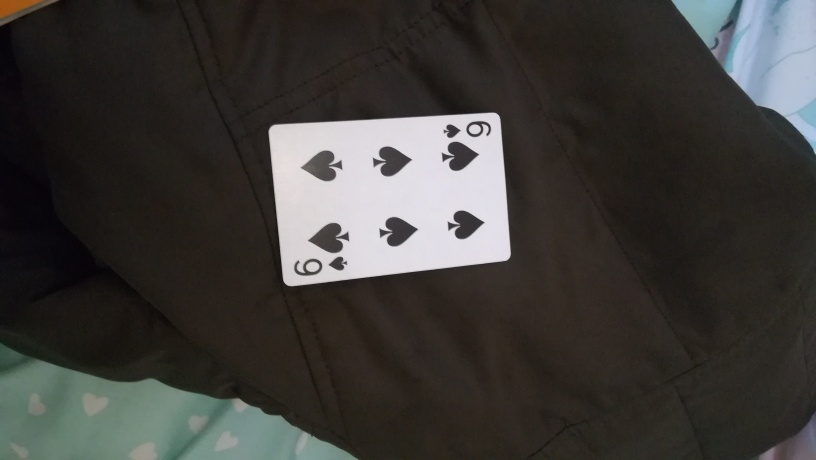ht 6: (261, 110, 523, 289)
